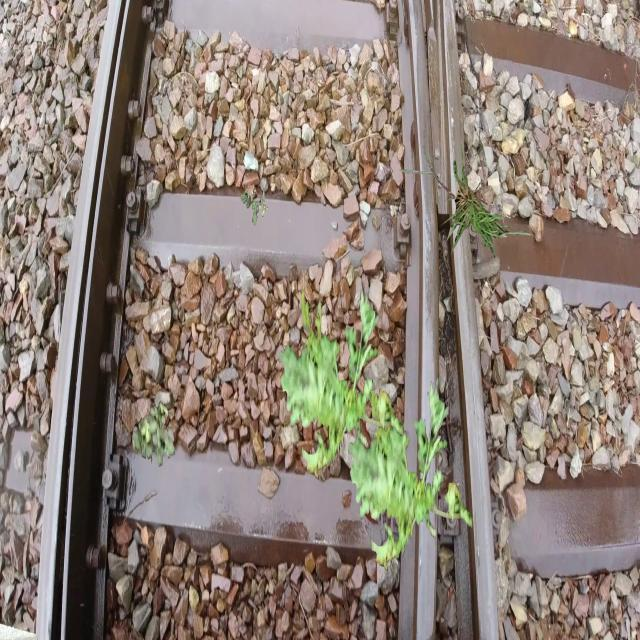Plant: (348, 378, 473, 574), (279, 286, 404, 482), (399, 139, 542, 258), (132, 401, 176, 468), (241, 185, 268, 226)
